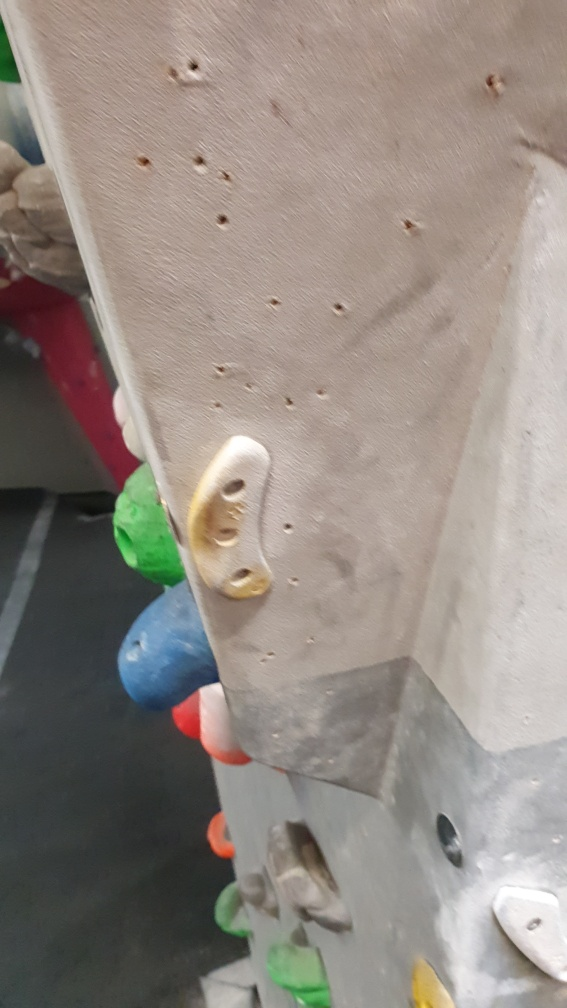Hand Start: (437, 814, 467, 872)
Jug: (267, 816, 359, 932)
